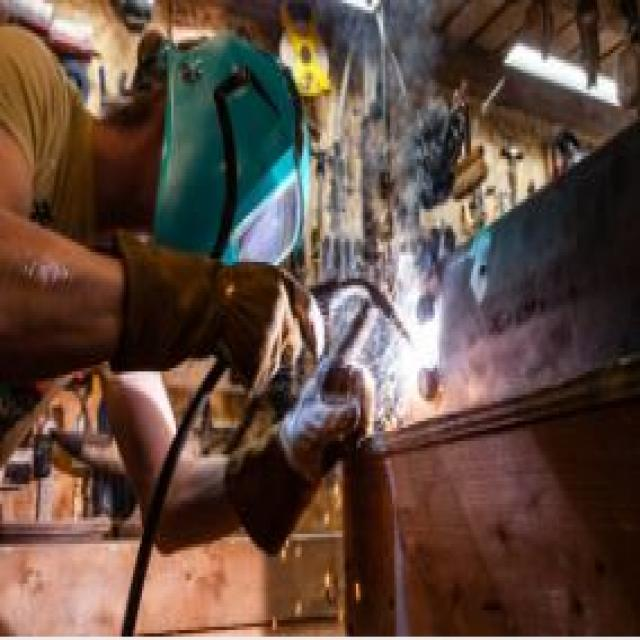welding: (392, 334, 442, 372)
